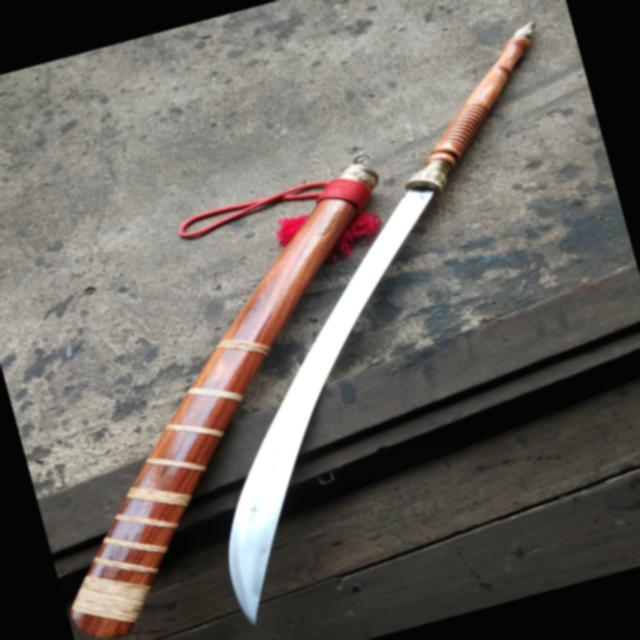long sword: (91, 15, 640, 635)
